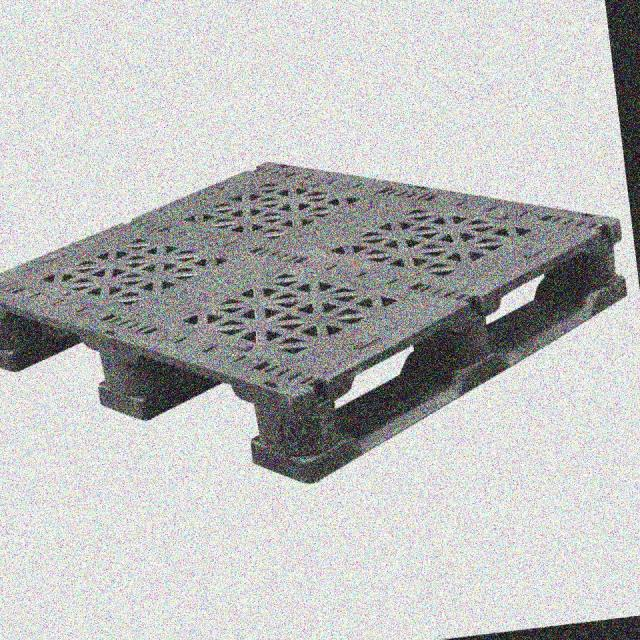non-igps: (0, 157, 632, 488)
